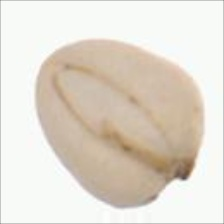L5: (50, 63, 172, 170), (157, 147, 199, 196)
L6: (31, 38, 208, 211)
